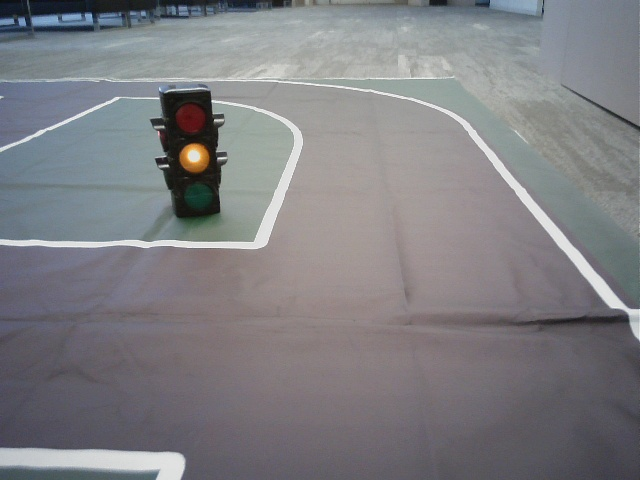yellow: (166, 96, 218, 214)
